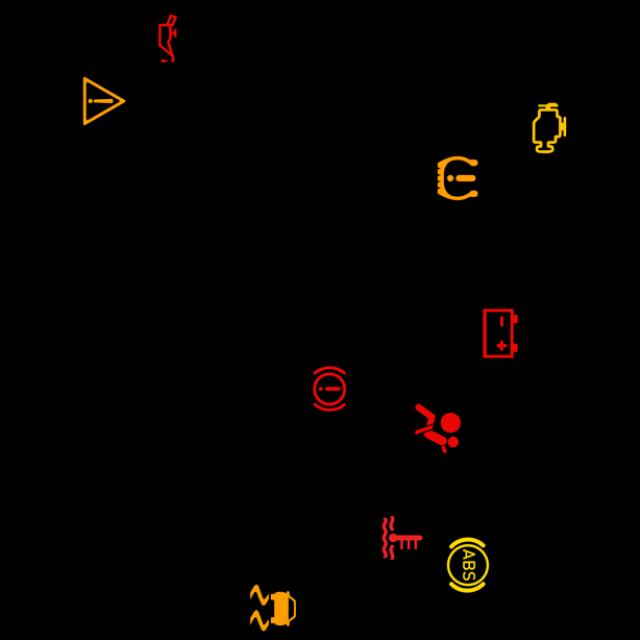Anti Lock Braking System: (438, 535, 498, 595)
Braking System Issue: (300, 359, 360, 419)
Charging System Issue: (470, 304, 530, 364)
Check Engine: (520, 98, 580, 158)
Electronic Stability Problem -ESP-: (243, 578, 303, 638)
Engine Overheating Warning Light: (372, 508, 432, 568)
Low Engine Oil Warning Light: (138, 8, 198, 68)
Low Tire Pressure Warning Light: (428, 148, 488, 208)
Master warning light: (74, 71, 134, 131)
SRS-Airbag: (408, 398, 468, 458)
